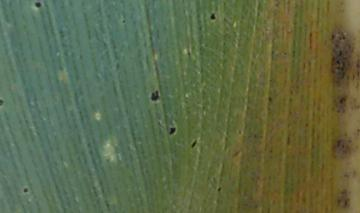tarspot: (149, 89, 160, 102), (189, 138, 199, 149), (208, 12, 217, 22), (114, 61, 122, 72), (338, 96, 346, 106), (285, 133, 291, 146), (342, 198, 349, 209), (168, 127, 177, 135), (33, 1, 42, 9), (339, 70, 345, 82), (336, 48, 343, 58), (216, 185, 223, 194), (236, 128, 243, 137), (335, 138, 341, 148), (21, 186, 29, 193), (185, 50, 192, 58), (281, 49, 288, 57), (120, 18, 127, 25), (334, 59, 341, 66), (303, 121, 310, 128), (273, 1, 280, 8), (266, 95, 272, 103), (354, 61, 360, 69), (330, 32, 335, 41), (1, 97, 5, 108), (340, 34, 346, 41), (340, 142, 346, 149), (355, 126, 360, 134), (335, 65, 340, 72), (340, 65, 345, 72), (252, 132, 257, 139)
